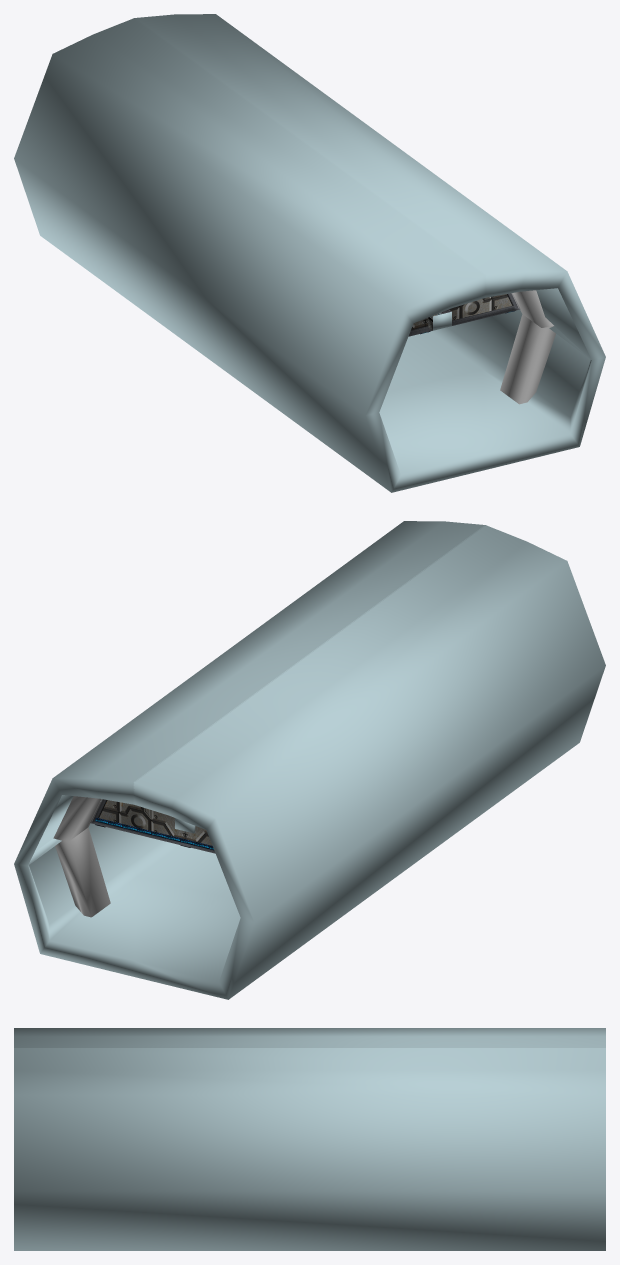
The model's file is upNarrowCorridor.fbx.
3 views of the same model, one above another, from view 1: azimuth 30°, elevation 25°; view 2: azimuth 150°, elevation 25°; view 3: azimuth 270°, elevation 25° (orthographic). The views are drawn at different scales.
Parts seen in each view (by area): view 1: Circle; view 2: Circle; view 3: Circle.
Part boxes in pixels (x1,y1,x2,y2): Circle: (14,14,605,492); Circle: (14,521,605,999); Circle: (14,1028,605,1250).
Size of the model in its own units: 119 by 94.45 by 301.
